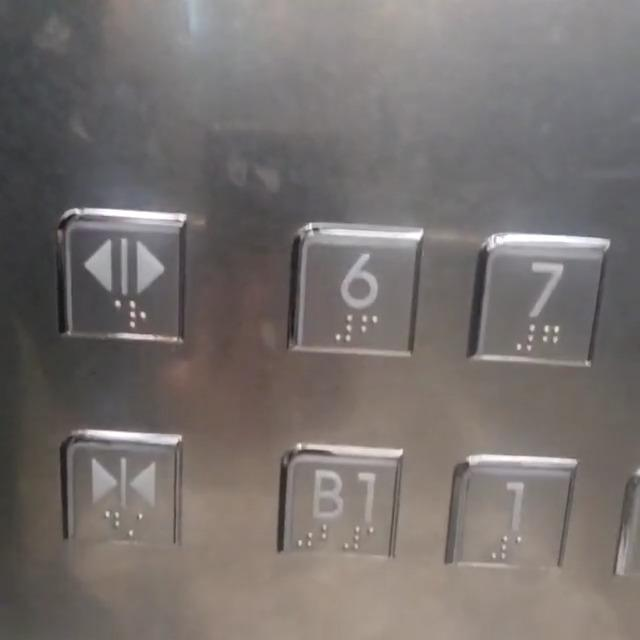button: (287, 219, 432, 360), (474, 233, 601, 363), (53, 219, 184, 344), (64, 434, 200, 552), (285, 442, 415, 562), (466, 455, 575, 578)
